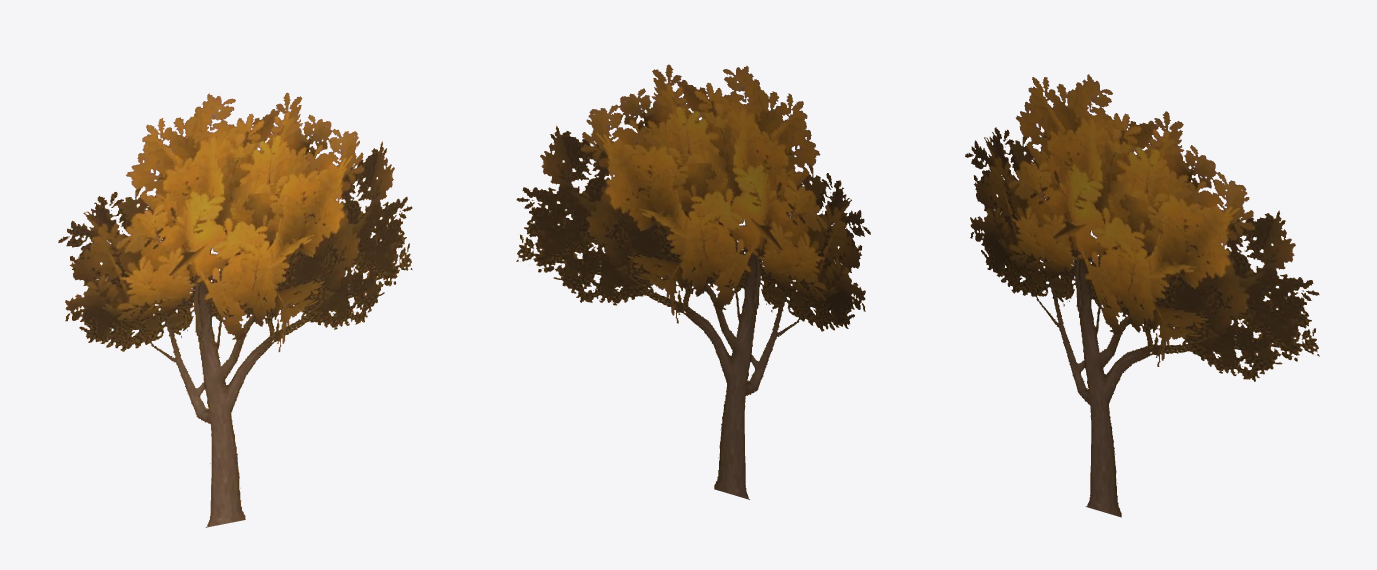
3 renders of one model, left to right at view 1: azimuth 30°, elevation 25°; view 2: azimuth 150°, elevation 25°; view 3: azimuth 330°, elevation 25°, orthographic.
Visible parts, largest first — view 1: body0_model0_lod0_mesh0; view 2: body0_model0_lod0_mesh0; view 3: body0_model0_lod0_mesh0.
Part boxes in pixels (x1,y1,x2,y2): body0_model0_lod0_mesh0: (58, 92, 412, 527); body0_model0_lod0_mesh0: (516, 64, 870, 499); body0_model0_lod0_mesh0: (965, 74, 1319, 517).
Bounding box in the file's own units: 29.46 × 28.56 × 2.51.
Materials: 1 (1 with a texture image).
